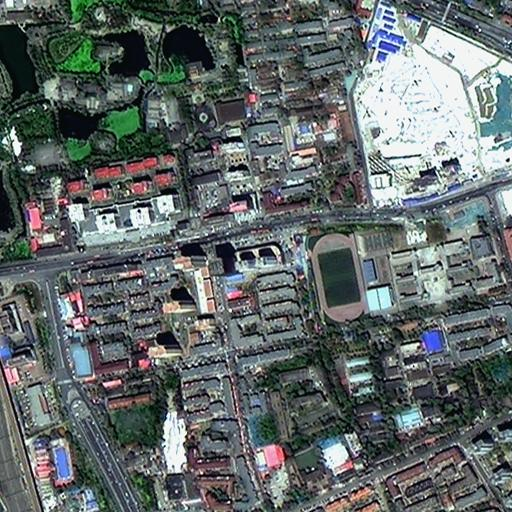school: (300, 197, 507, 328)
